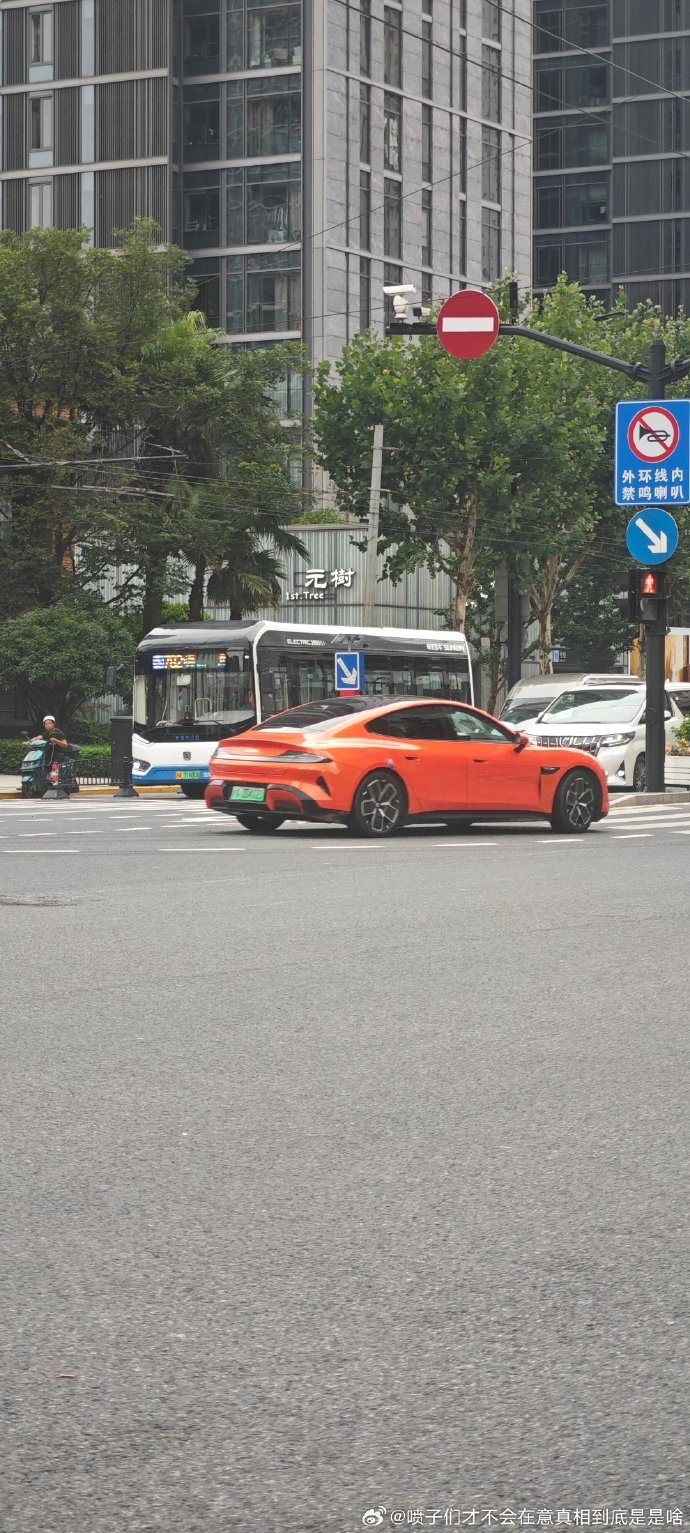other: (113, 620, 270, 778), (530, 673, 690, 793)
su7: (203, 687, 609, 838)
